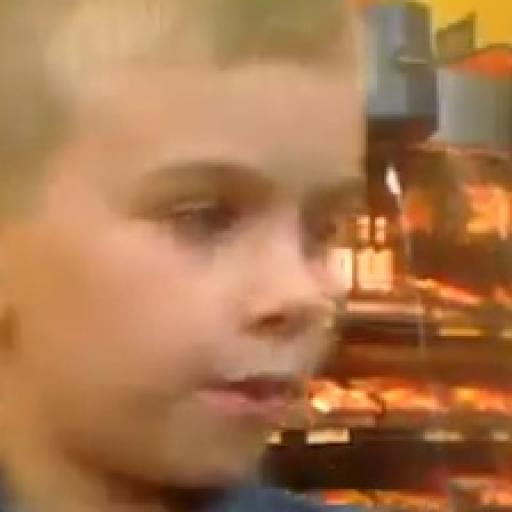Autism: (16, 5, 378, 512)
